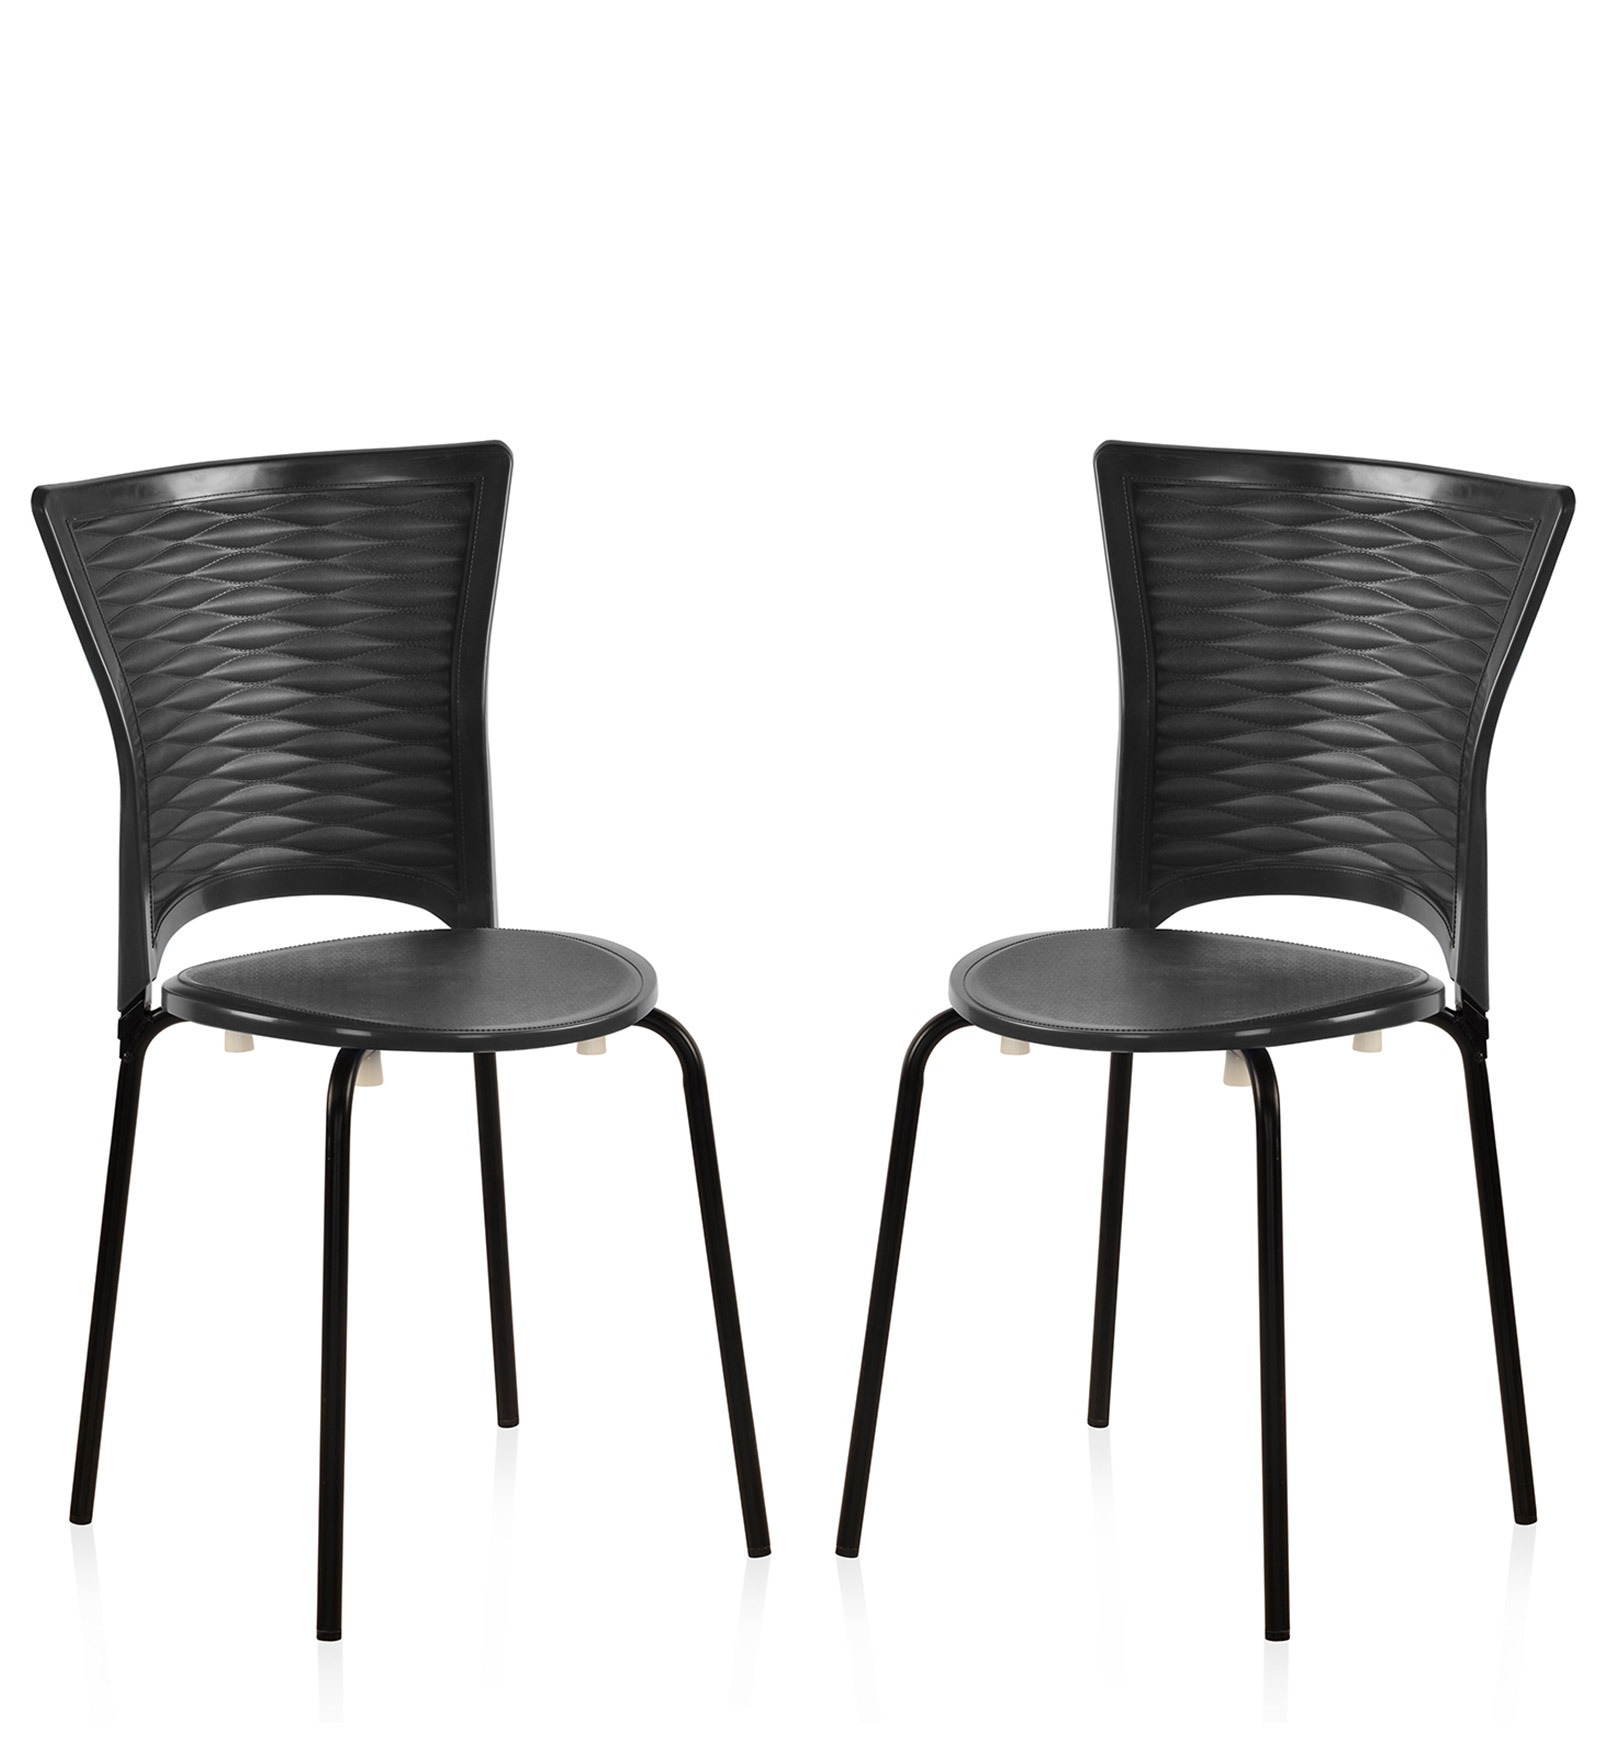Novella Series - 14 Chair (Set of 2) in Black Colour by Nilkamal: (826, 429, 1600, 1640), (21, 437, 779, 1640)
